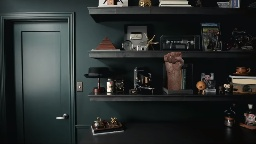Pugno: (162, 50, 185, 72)
